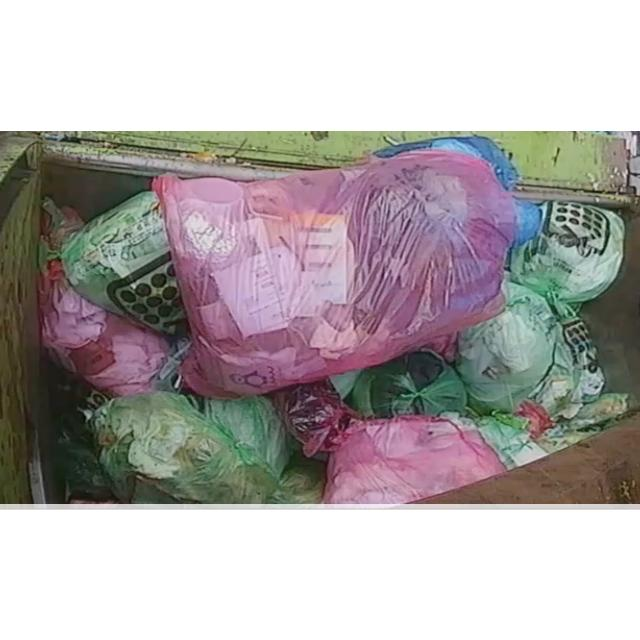general_trashbag: (90, 391, 278, 502), (60, 190, 186, 333), (456, 281, 556, 412), (510, 200, 625, 301), (345, 350, 468, 416), (529, 315, 605, 418), (202, 395, 290, 476), (269, 454, 326, 502)
other_trashbag: (154, 149, 516, 396), (285, 380, 505, 502), (39, 259, 170, 395)
